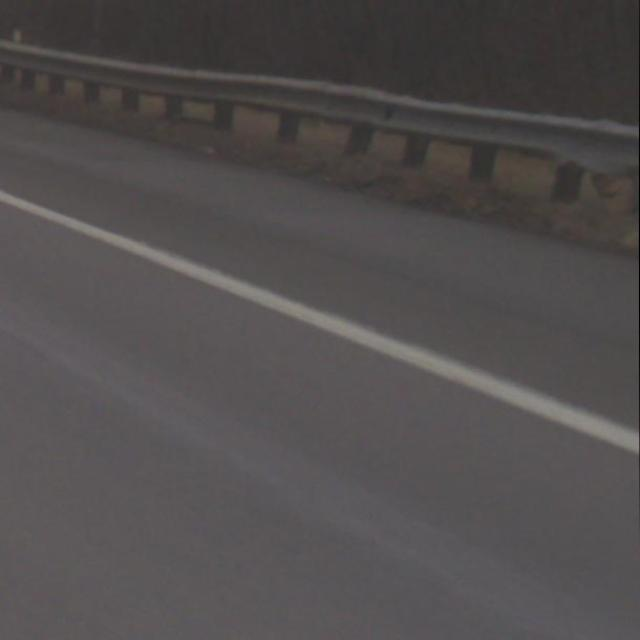Guard rail: (0, 33, 640, 213)
